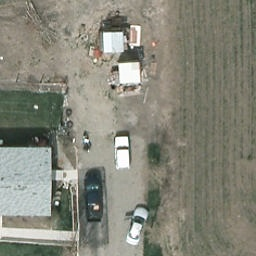car: (125, 206, 151, 247), (114, 136, 131, 170)
pickup: (84, 171, 104, 222)
